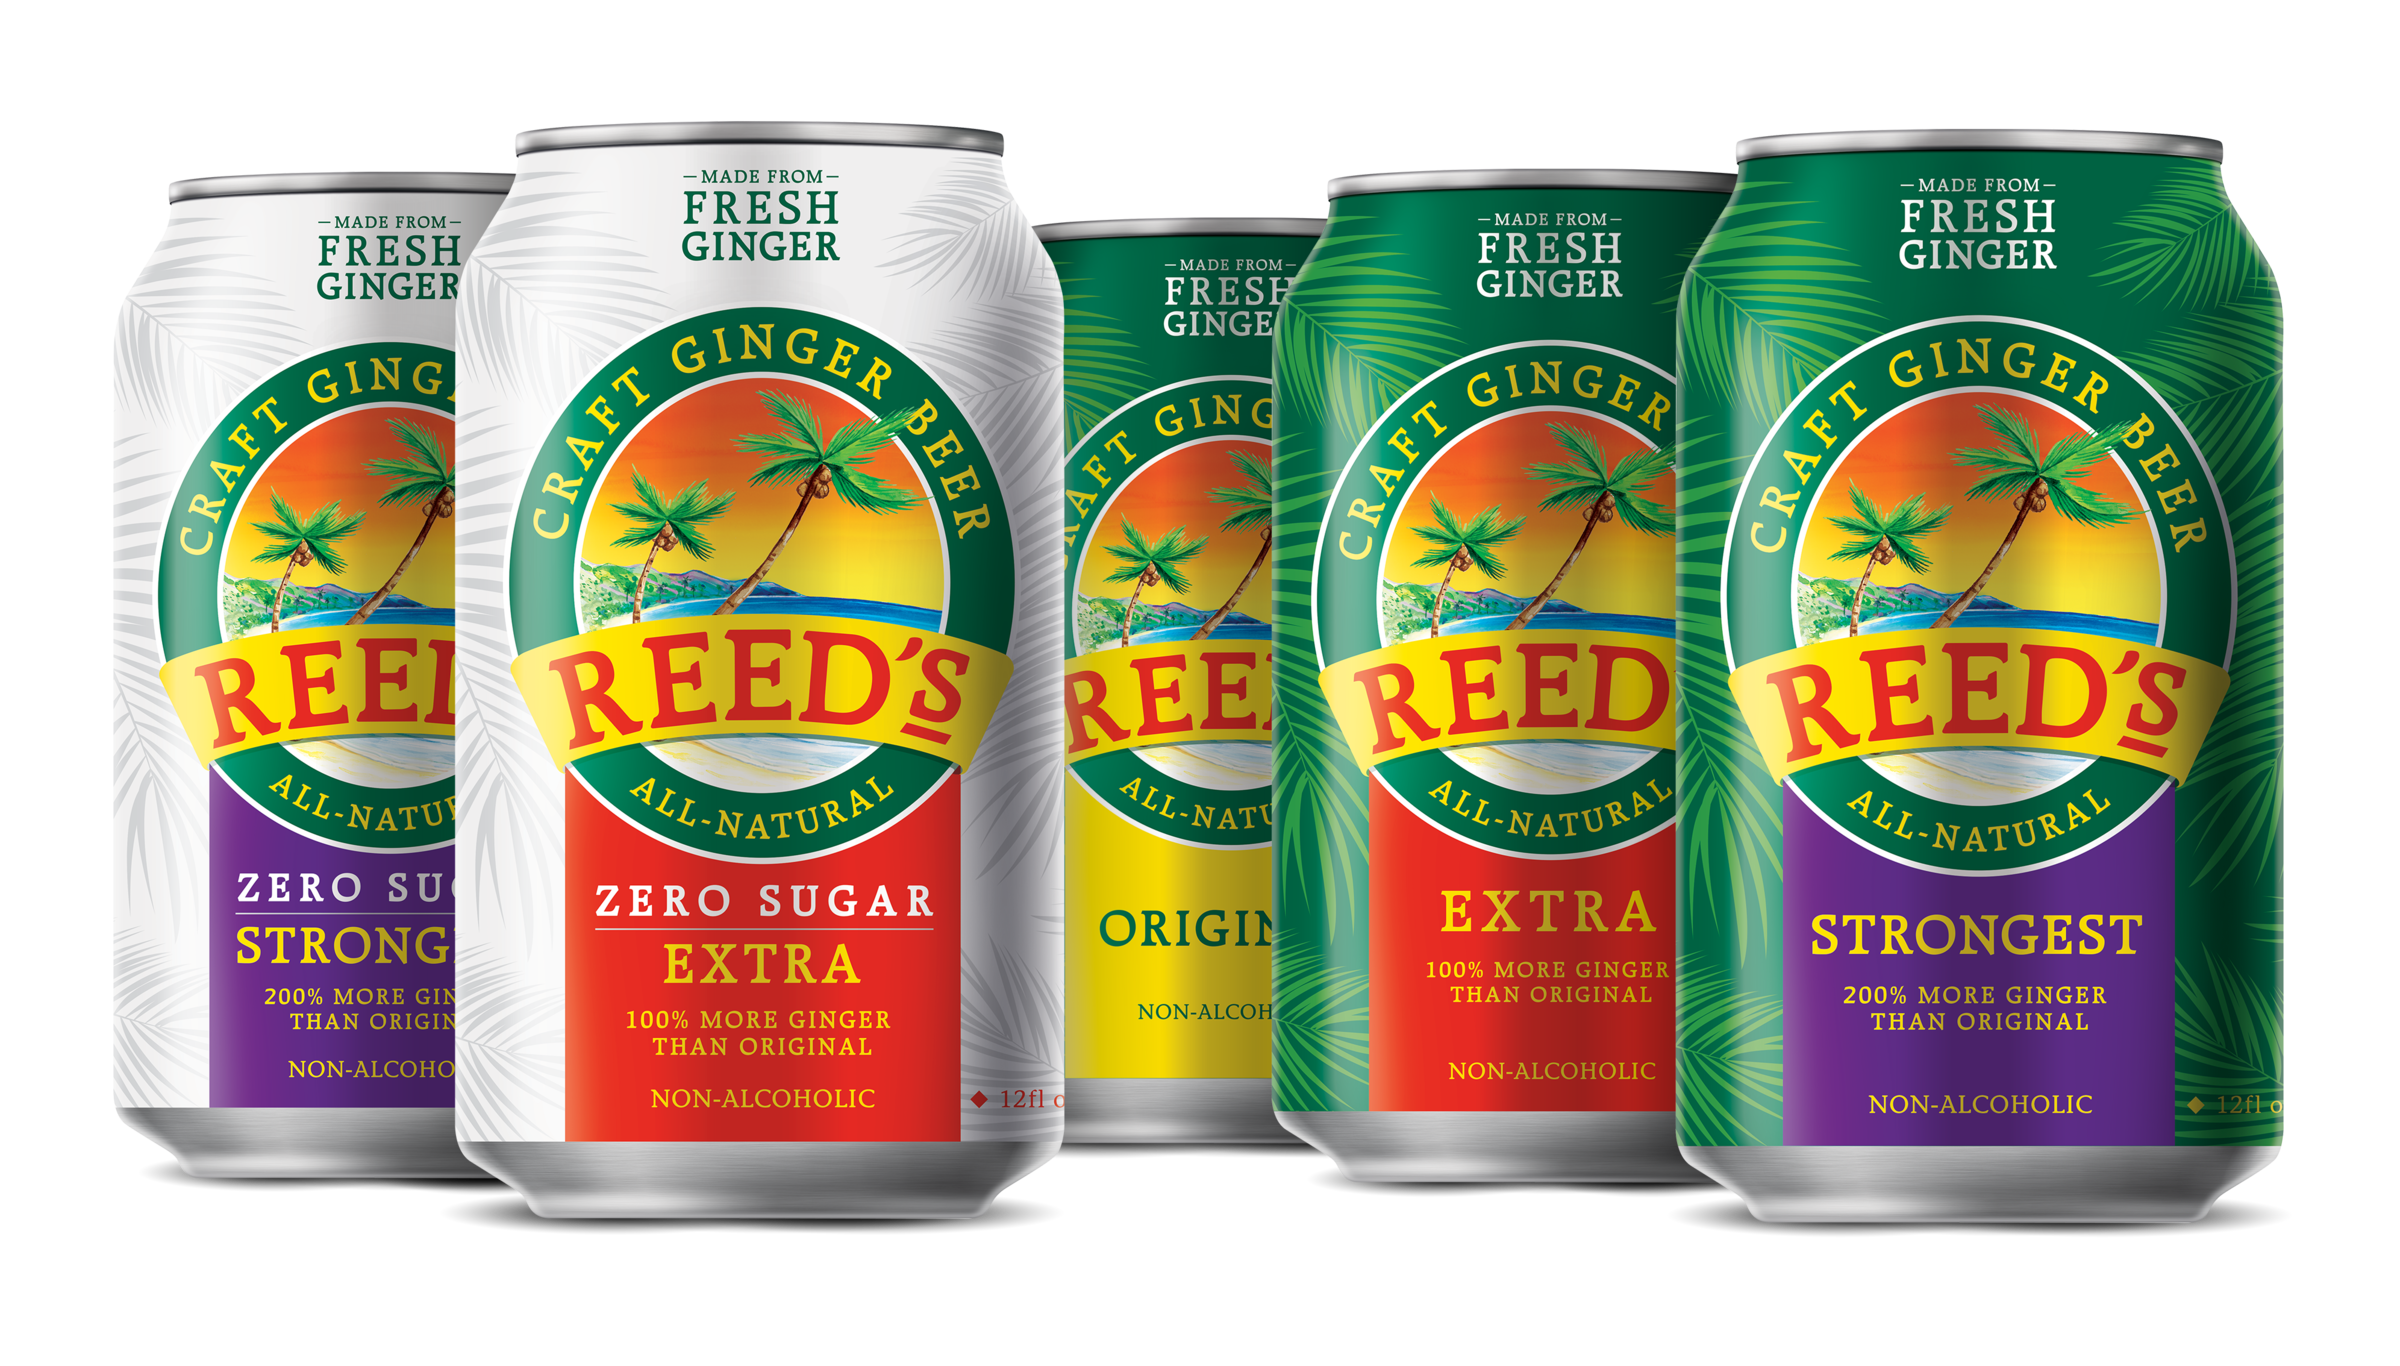beer can: (1665, 104, 2314, 1284), (452, 133, 1032, 1229), (1277, 148, 1769, 1193), (102, 163, 524, 1206), (1032, 209, 1338, 1186)
